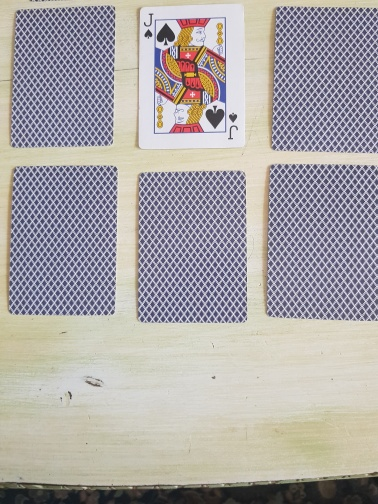jack: (136, 2, 247, 151)
